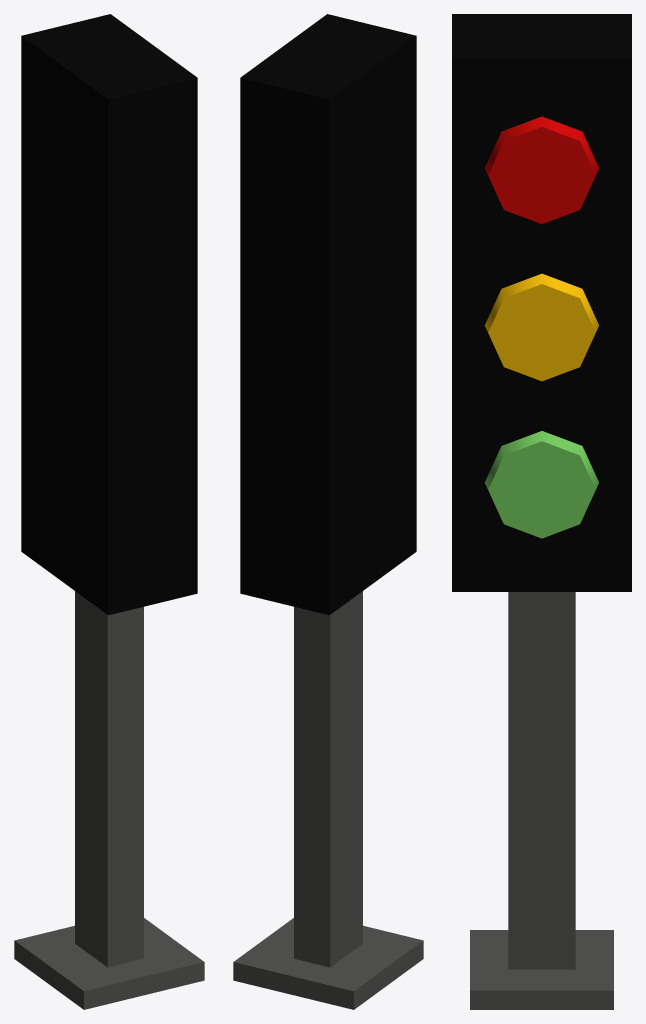
File: traffic_light.fbx
The picture shows the model from 3 angles, left to right: view 1: azimuth 30°, elevation 25°; view 2: azimuth 150°, elevation 25°; view 3: azimuth 270°, elevation 25°; orthographic projection. The views are drawn at different scales.
Parts seen in each view (by area): view 1: traffic_light; view 2: traffic_light; view 3: traffic_light.
Boxes of the visible parts, x1=… form: traffic_light: x1=14, y1=14, x2=204, y2=1009; traffic_light: x1=233, y1=14, x2=423, y2=1009; traffic_light: x1=452, y1=14, x2=631, y2=1009.
Size of the model in its own units: 43.28 by 313 by 54.22.
Materials: 1 (1 with a texture image).
